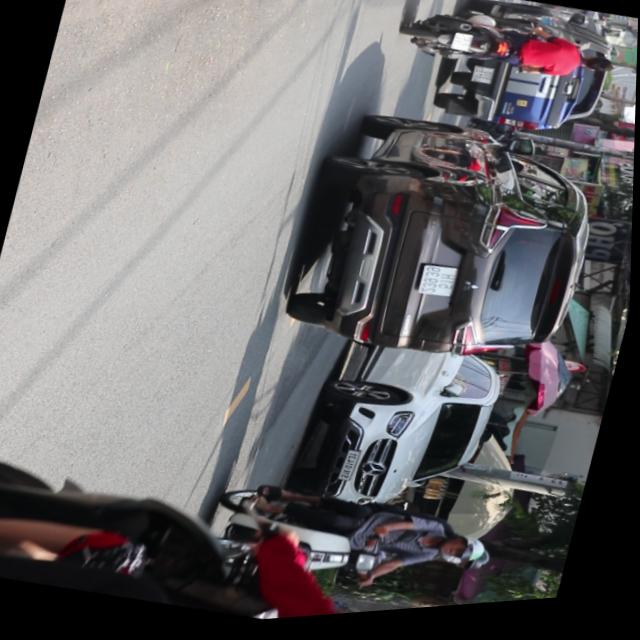helmet: (431, 535, 493, 578)
licenseplate: (0, 401, 578, 640), (194, 458, 505, 627), (395, 0, 622, 110)
motorcyclist: (578, 60, 615, 87)
nohelmet: (450, 38, 472, 60)
